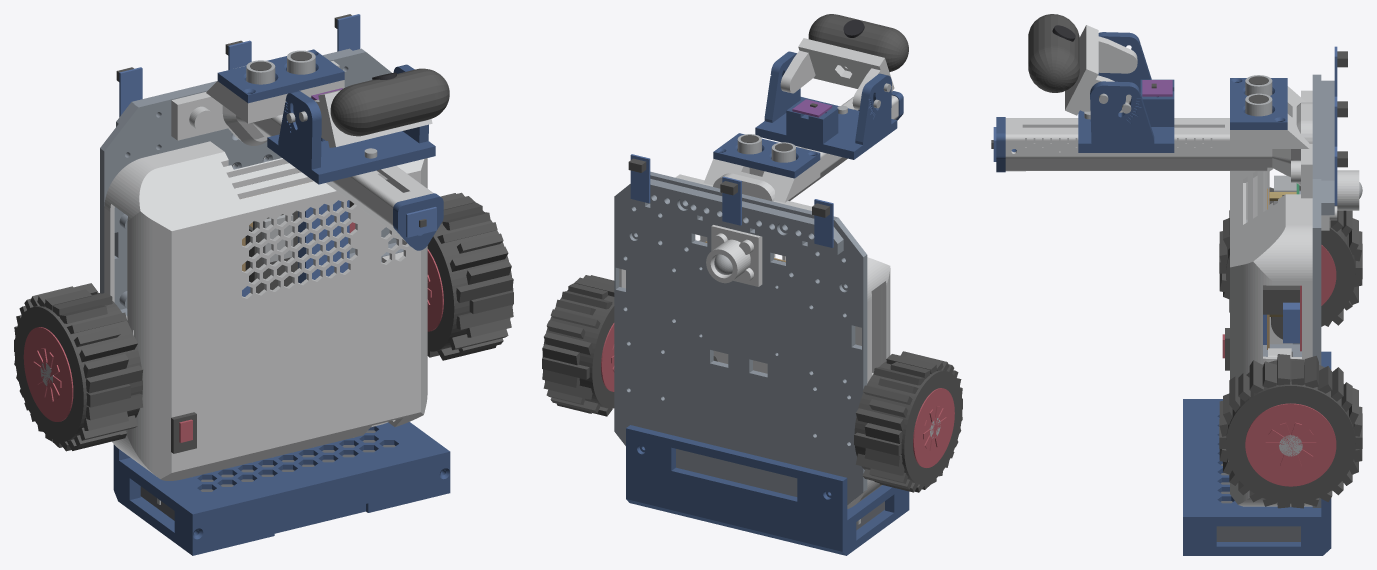
File: robot_B_explorador.glb
The picture shows the model from 3 angles, left to right: view 1: azimuth 30°, elevation 25°; view 2: azimuth 150°, elevation 25°; view 3: azimuth 270°, elevation 25°; orthographic projection. The views are drawn at different scales.
Visible parts, largest first — view 1: carcasa, cierre, mochila, placa, mastil, cabezal, c270, neum_-1, neum_1, bisel, rin_-1, borneras_der (+21 smaller); view 2: placa, mochila, cabezal, barra, neum_-1, cuna, mastil, carcasa, c270, caster, neum_1, bisel (+11 smaller); view 3: mastil, carcasa, mochila, cabezal, neum_1, rin_1, c270, placa, cuna, neum_-1, bisel, barra (+9 smaller).
Boxes of the visible parts, <box> form: carcasa: <box>104,141,427,480</box>; cierre: <box>188,448,450,555</box>; mochila: <box>113,422,445,552</box>; placa: <box>100,48,403,315</box>; mastil: <box>171,60,433,241</box>; cabezal: <box>267,64,435,184</box>; c270: <box>330,68,449,136</box>; neum_-1: <box>14,292,142,441</box>; neum_1: <box>427,211,513,351</box>; bisel: <box>217,49,344,103</box>; rin_-1: <box>23,327,73,421</box>; borneras_der: <box>298,200,349,283</box>; placa: <box>614,171,867,504</box>; mochila: <box>626,425,905,555</box>; cabezal: <box>755,51,897,159</box>; barra: <box>628,179,843,254</box>; neum_-1: <box>854,361,962,484</box>; cuna: <box>780,38,894,109</box>; mastil: <box>675,95,898,210</box>; carcasa: <box>619,235,890,508</box>; c270: <box>808,14,908,72</box>; caster: <box>706,225,762,286</box>; neum_1: <box>542,290,614,408</box>; bisel: <box>713,133,820,178</box>; mastil: <box>1005,86,1312,198</box>; carcasa: <box>1230,167,1312,506</box>; mochila: <box>1191,351,1331,555</box>; cabezal: <box>1078,32,1174,152</box>; neum_1: <box>1226,358,1355,503</box>; rin_1: <box>1245,403,1336,486</box>; c270: <box>1028,14,1079,92</box>; placa: <box>1263,74,1321,507</box>; cuna: <box>1065,25,1137,115</box>; neum_-1: <box>1226,220,1355,326</box>; bisel: <box>1230,78,1287,129</box>; barra: <box>1321,80,1334,215</box>.
Size of the model in its own units: 279 by 307 by 220.
